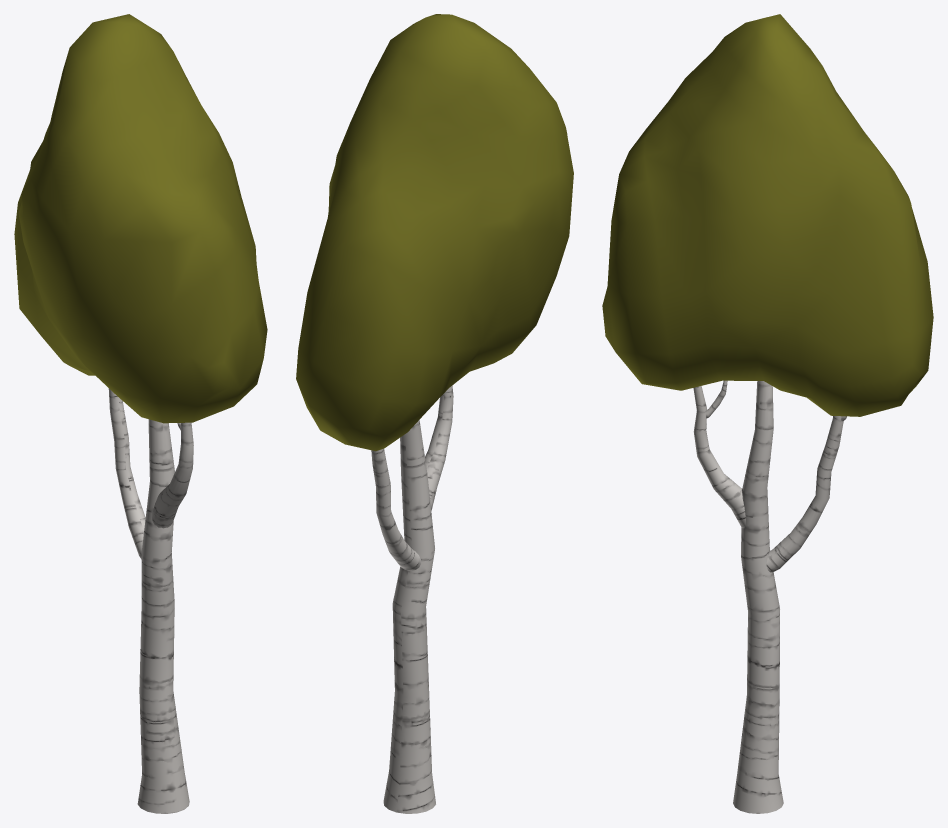
File: Sm_BirchTree2L.fbx
The picture shows the model from 3 angles, left to right: view 1: azimuth 30°, elevation 25°; view 2: azimuth 150°, elevation 25°; view 3: azimuth 270°, elevation 25°; orthographic projection. The views are drawn at different scales.
Parts seen in each view (by area): view 1: Sm_BirchTree2L; view 2: Sm_BirchTree2L; view 3: Sm_BirchTree2L.
Boxes of the visible parts, box(x1,y1,x2,y2) form: Sm_BirchTree2L: box(14, 14, 267, 813); Sm_BirchTree2L: box(296, 14, 573, 813); Sm_BirchTree2L: box(602, 14, 933, 813).
Bounding box in the file's own units: 183 × 661 × 260.
